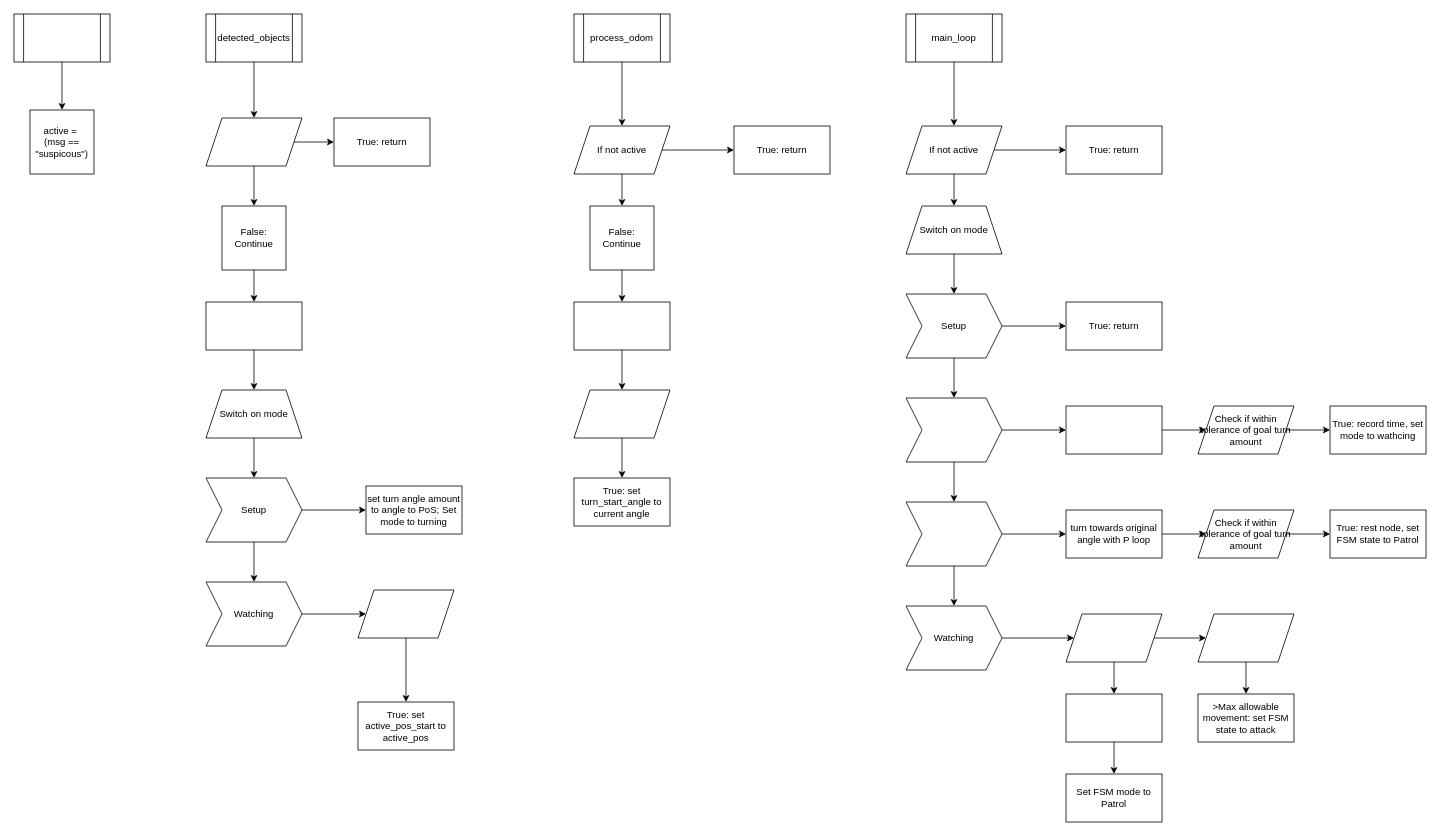
Some shapes in this 1440 by 836 pixel diagram are drawn without their labels. The centre of each missing label's shape, as x and y in pixels:
diff between active_pos location and start location: [1245,637]
If active_pos_start is none: [405,613]
If it has been more than 'timeout" since starting watching: [1113,637]
if not active or mode is turning/ turning back: [253,141]
if turn start angle is not set, and we are in watching: [621,413]
set active_pos to closest object: [253,325]
set current_angle to the angle from odom data: [621,325]
True: Tranform active_pos location to odom frame and publish to /dead_zone: [1113,717]
turn towards PoS with P loop: [1113,429]
Turning: [953,429]
Turning Back: [953,533]
update_state: [61,37]
